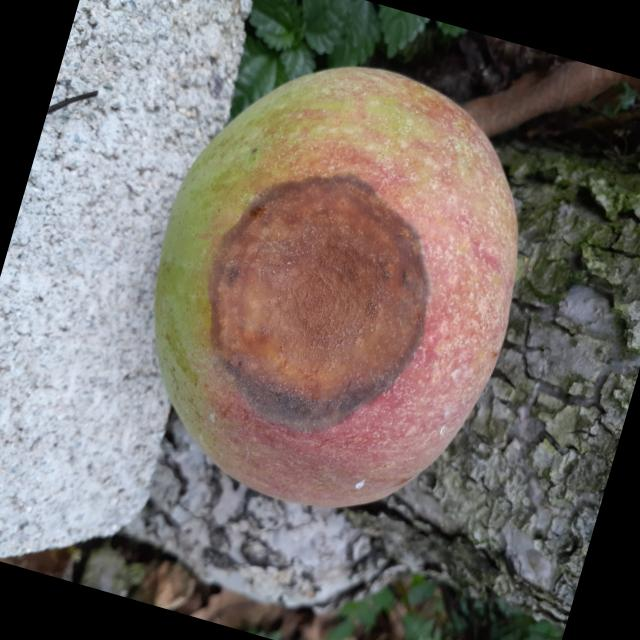rotten: (95, 14, 575, 559)
